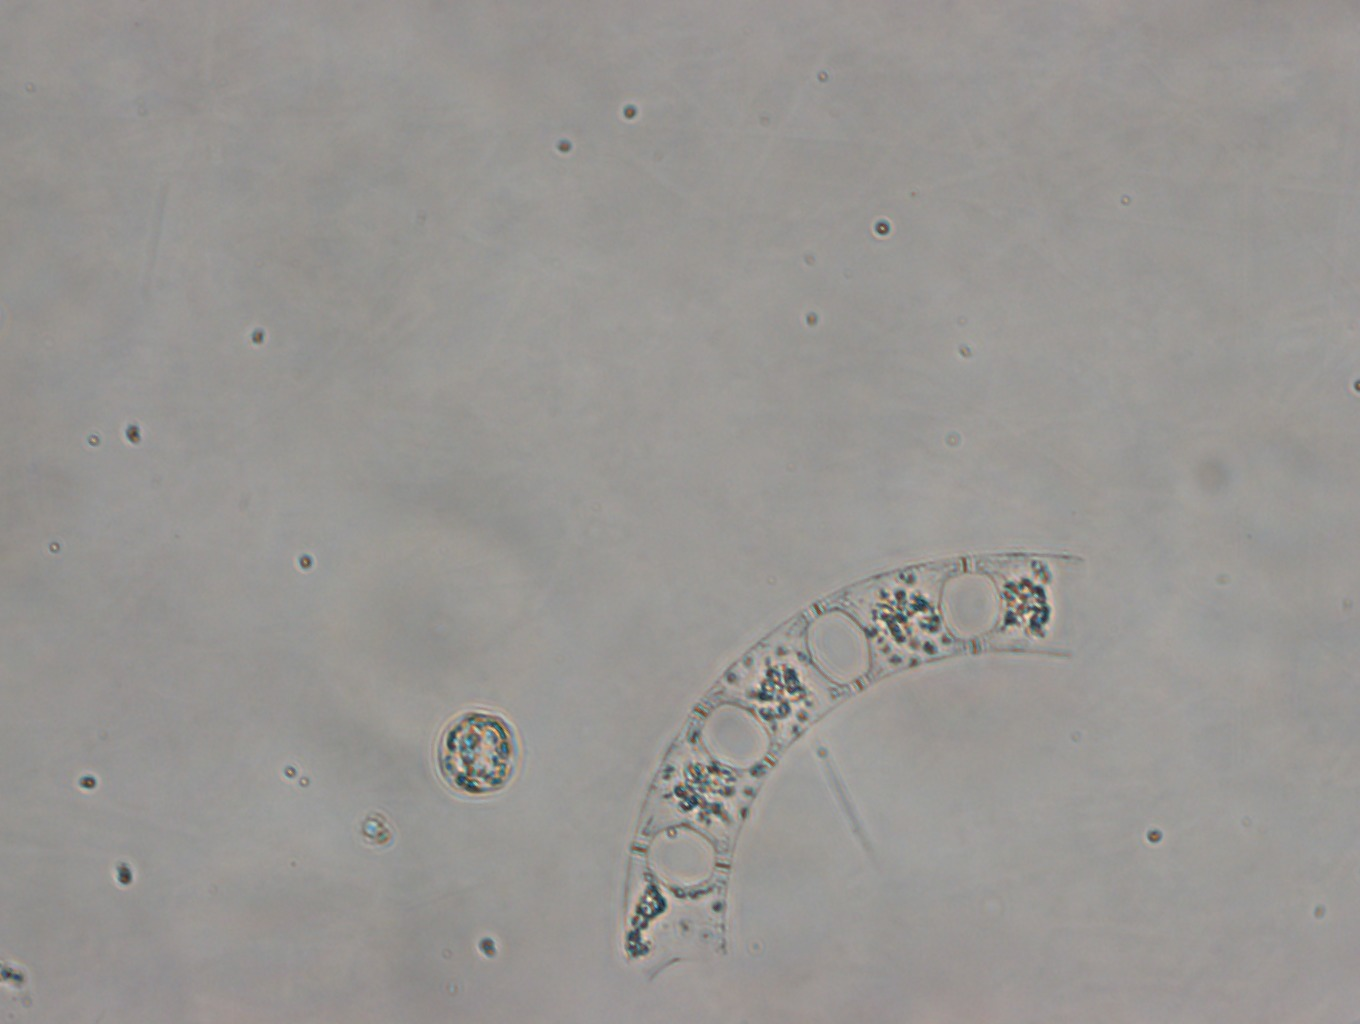eucampia: (621, 550, 1080, 983)
